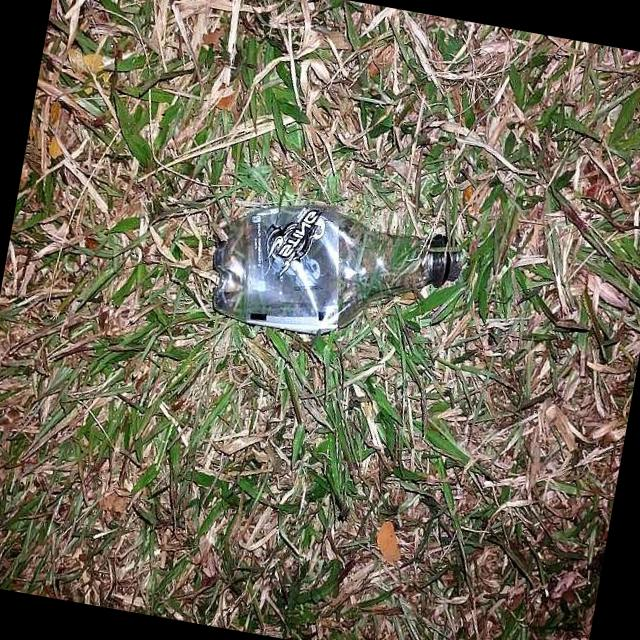Non-biodegradable: (204, 189, 469, 360)
